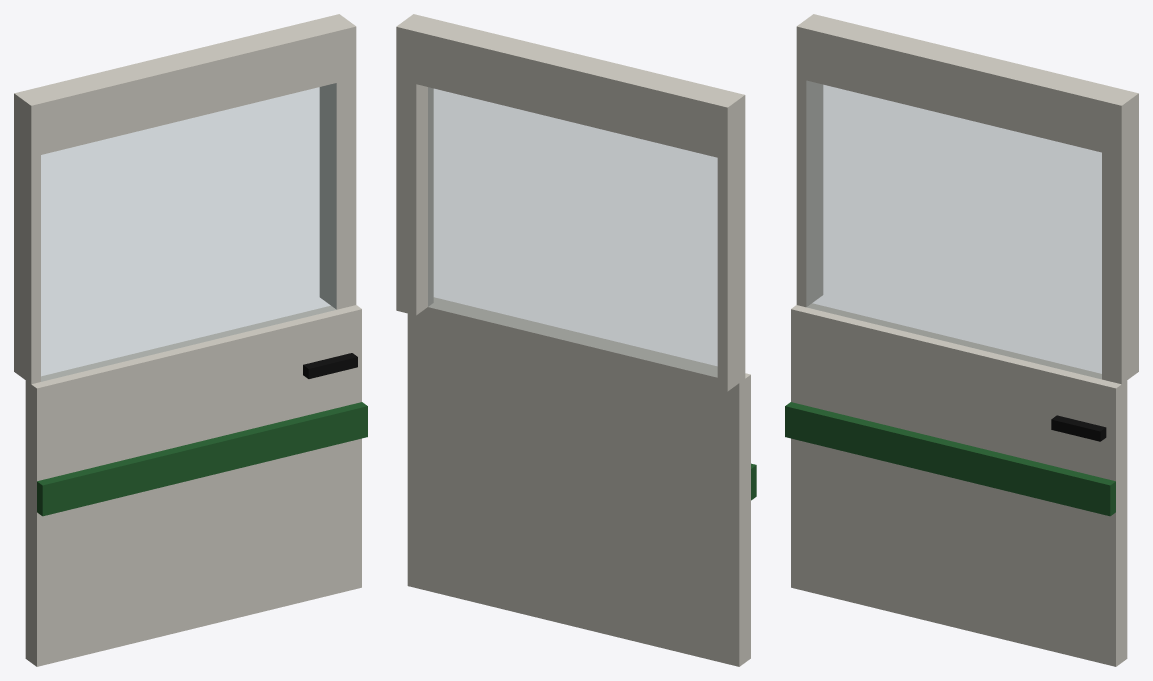
Rendered from minibus_side_door.glb.
The picture shows the model from 3 angles, left to right: view 1: azimuth 30°, elevation 25°; view 2: azimuth 150°, elevation 25°; view 3: azimuth 330°, elevation 25°; orthographic projection.
Visible parts, largest first — view 1: body:compound; view 2: body:compound; view 3: body:compound.
Boxes of the visible parts, x1=… form: body:compound: x1=14, y1=14, x2=367, y2=666; body:compound: x1=396, y1=14, x2=756, y2=666; body:compound: x1=785, y1=14, x2=1138, y2=666.
Bounding box in the file's own units: 1.03 × 1.69 × 0.1562.
